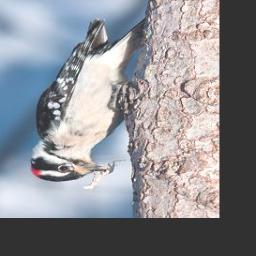Woodpecker: (29, 19, 143, 183)
